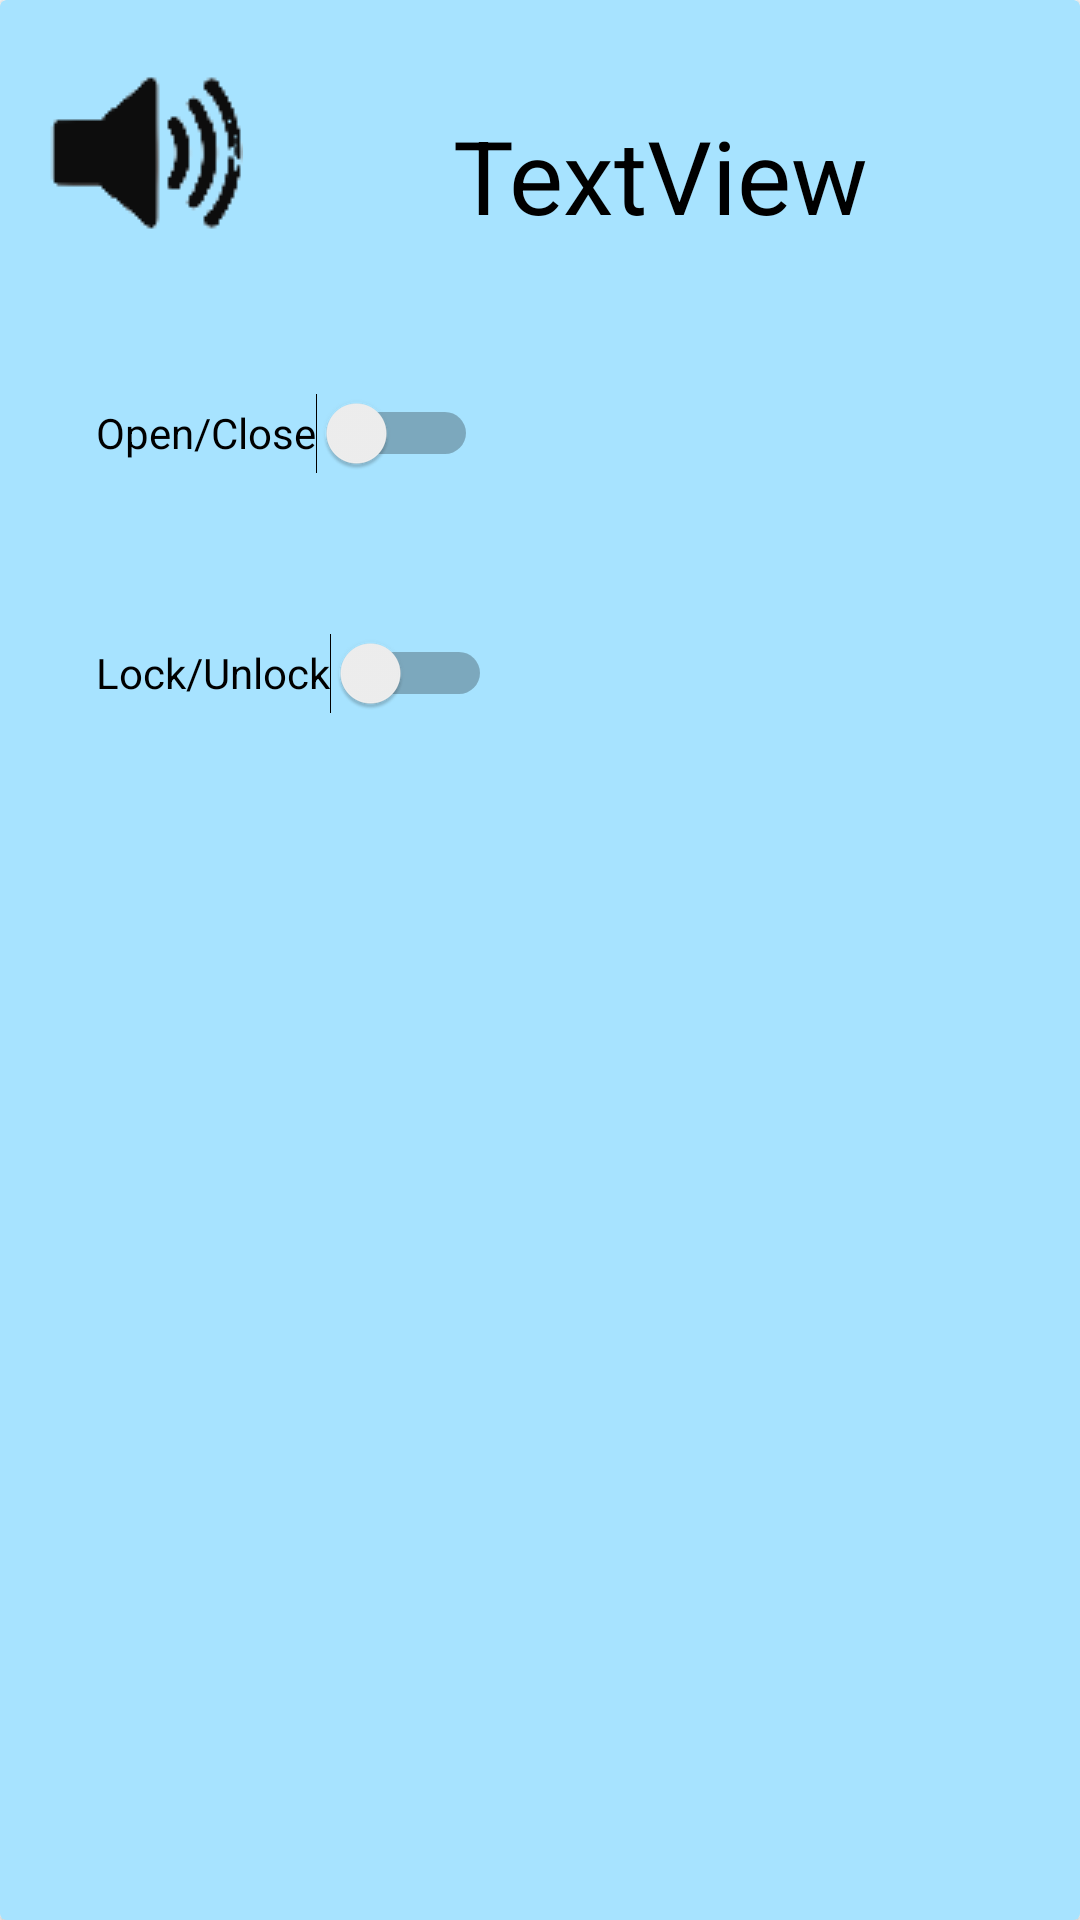

Icons on this 1080px×1920px Android screen, each with the point to tap as (x=x, y=y):
speakerphone: (x=147, y=153)
